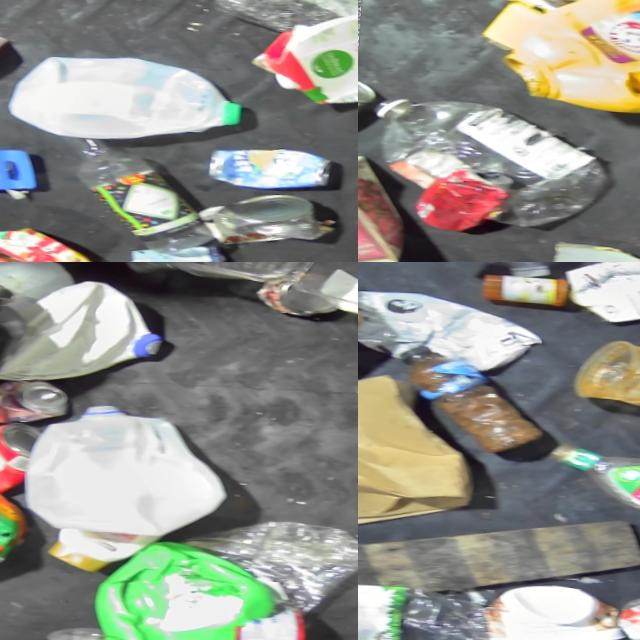can: (413, 156, 515, 233), (197, 189, 318, 241), (201, 140, 333, 187), (253, 270, 333, 317), (0, 377, 71, 423), (0, 419, 36, 495)
milk_jug: (20, 402, 225, 535), (9, 52, 244, 144), (0, 278, 170, 383)
non_white_jug: (477, 0, 640, 115), (91, 541, 280, 640)
plastic_bottle: (368, 92, 616, 232), (358, 574, 499, 640)
